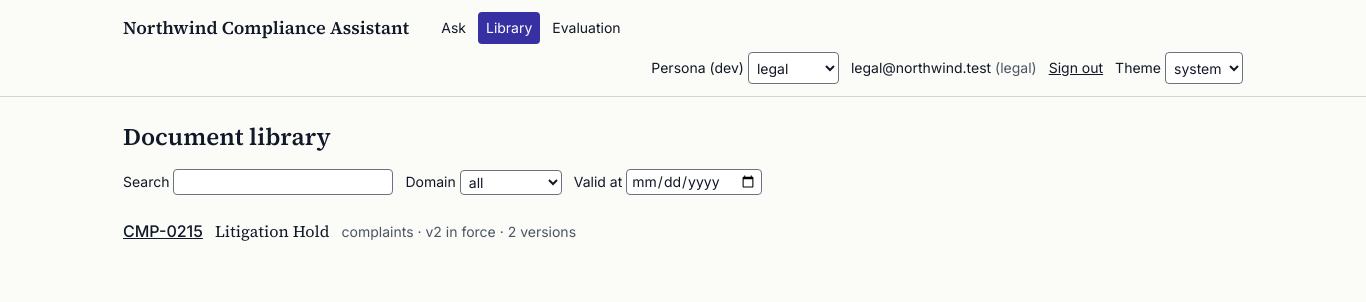
Test: switching persona drops everything fetched or answered under the previous identity
Expected: the link "CMP-0215" is shown, [123, 219, 203, 243]
Select "support" in the dropdown labelled "Persona (dev)": (793, 68) [748, 52, 839, 84]
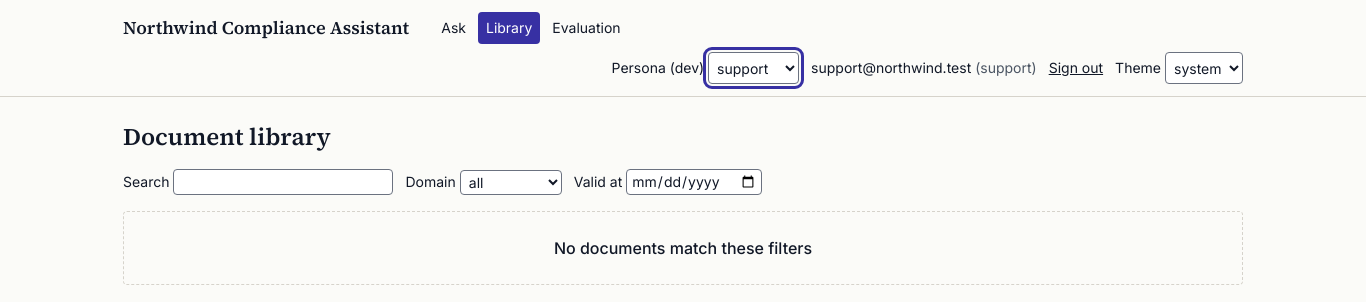
Expected: the text "support@northwind.test (support)" is shown, [811, 58, 1037, 78]
Expected: the link "CMP-0215" is gone
